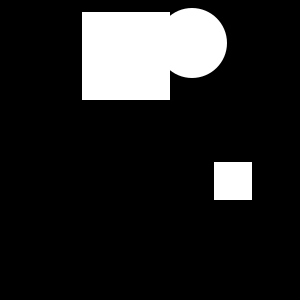circle: (82, 12, 170, 100), (214, 162, 252, 200)
rectangle: (157, 8, 227, 78)
